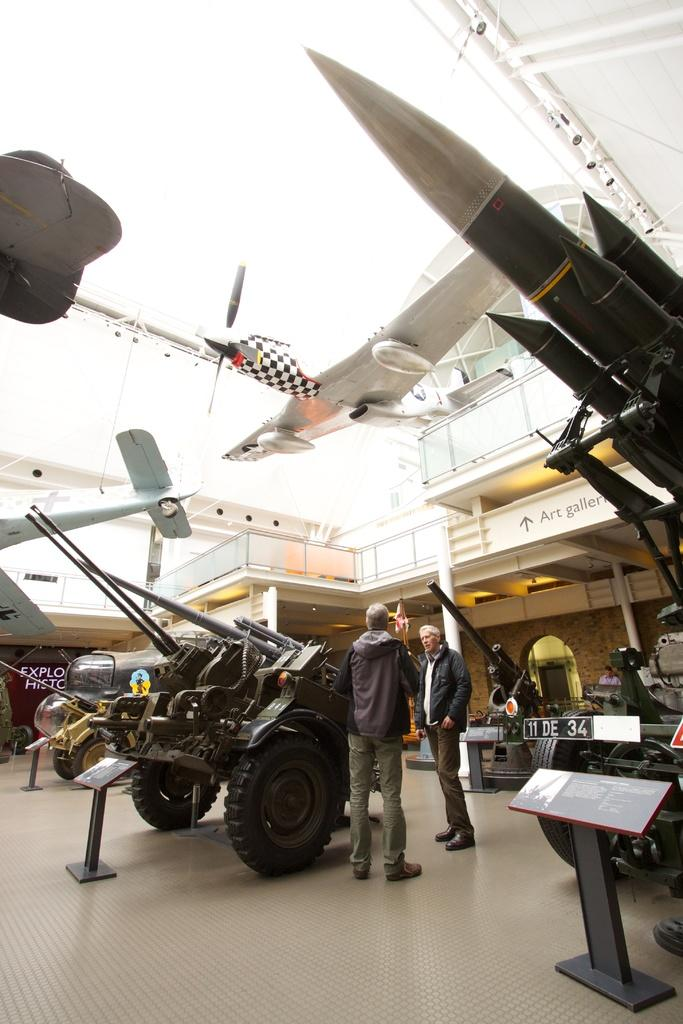Missile: (288, 39, 682, 561)
